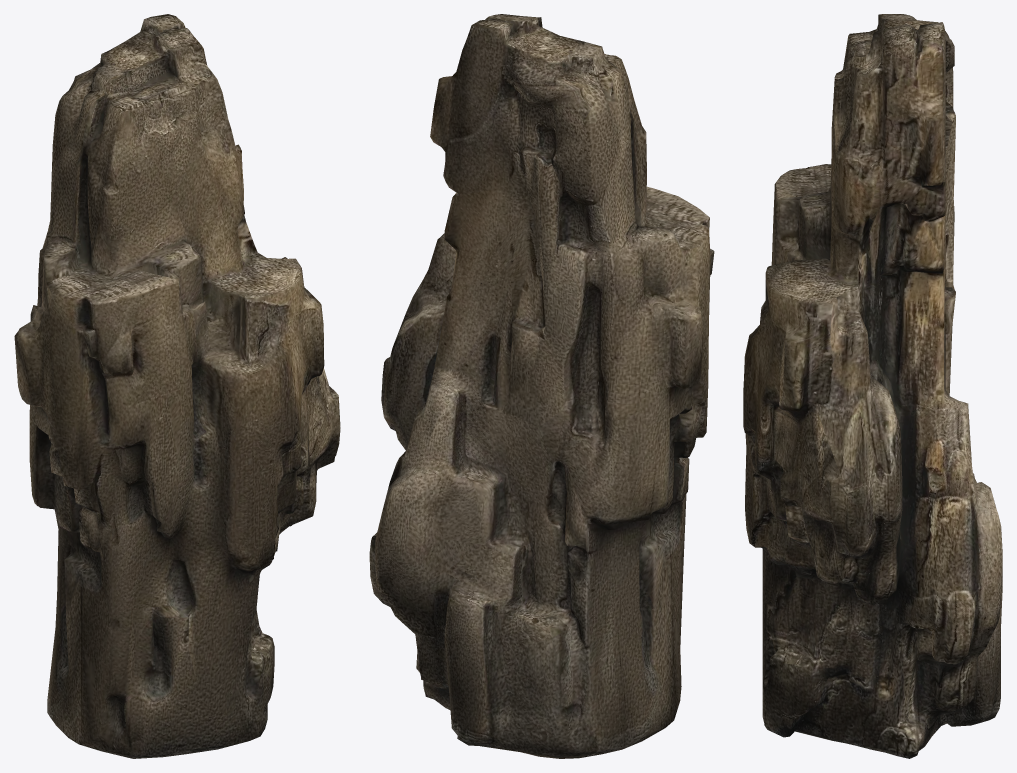
Rendered from JiaShanShi_6.glb.
3 renders of one model, left to right at view 1: azimuth 30°, elevation 25°; view 2: azimuth 150°, elevation 25°; view 3: azimuth 270°, elevation 25°, orthographic. The views are drawn at different scales.
Visible parts, largest first — view 1: tripo_node_79726448-9f83-4392-b801-7e5f81b73316; view 2: tripo_node_79726448-9f83-4392-b801-7e5f81b73316; view 3: tripo_node_79726448-9f83-4392-b801-7e5f81b73316.
Boxes of the visible parts, bbox=[...] form: tripo_node_79726448-9f83-4392-b801-7e5f81b73316: bbox=[14, 14, 340, 758]; tripo_node_79726448-9f83-4392-b801-7e5f81b73316: bbox=[369, 14, 714, 758]; tripo_node_79726448-9f83-4392-b801-7e5f81b73316: bbox=[743, 14, 1002, 758].
Size of the model in its own units: 0.4824 by 0.998 by 0.3379.
1 material, 1 textured.
